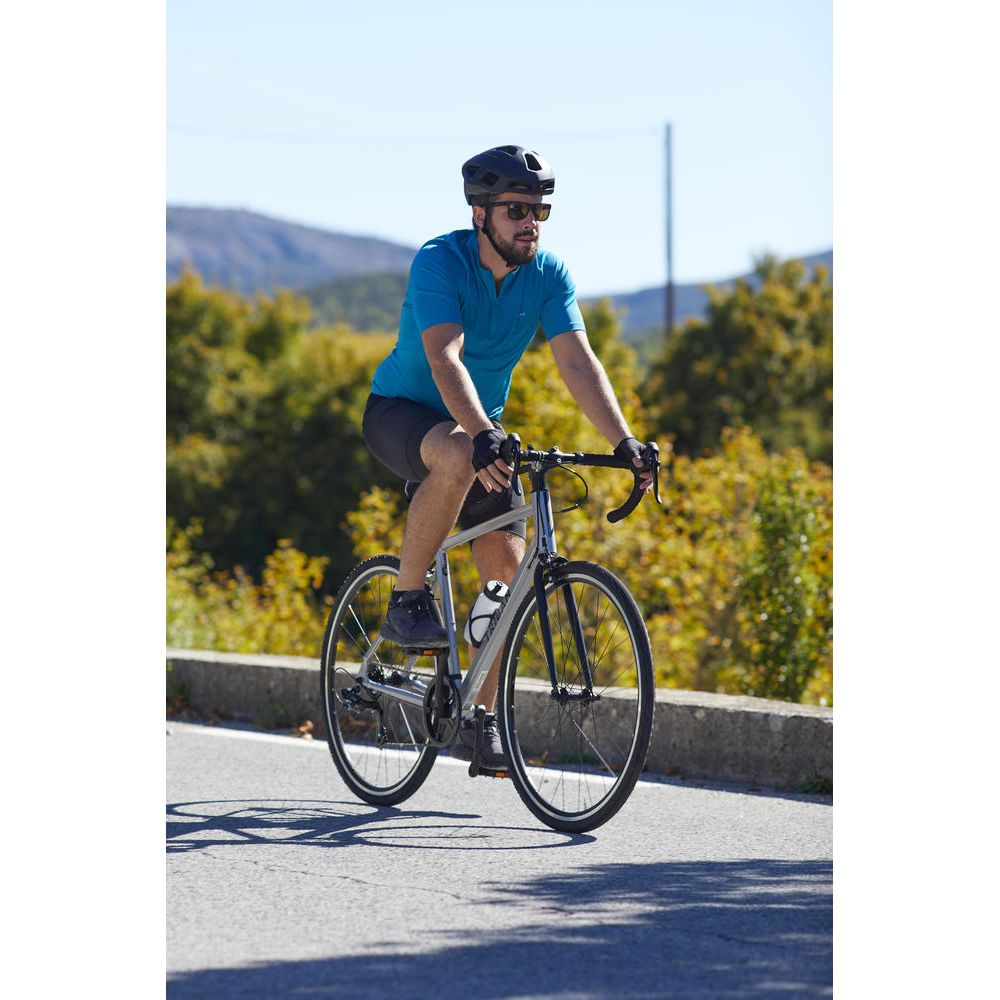RoadBike: (306, 401, 661, 838)
